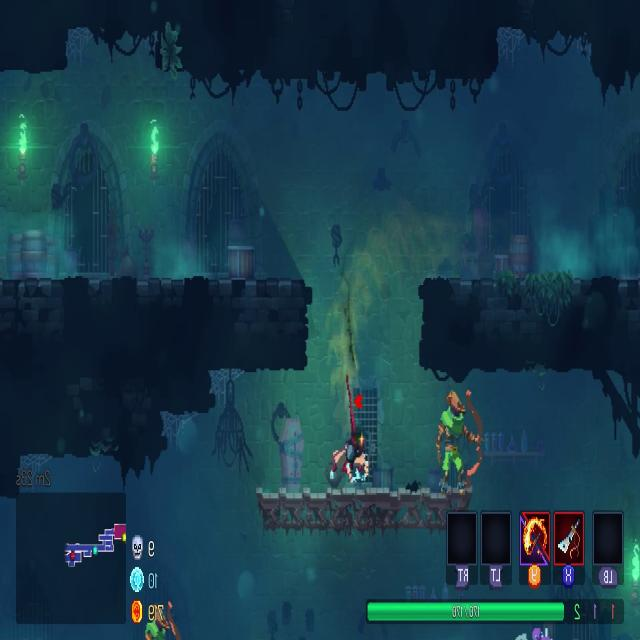agents: (329, 378, 367, 481)
enemy_archer: (436, 389, 481, 494), (146, 603, 180, 640)
wood_floor: (253, 486, 476, 535)
